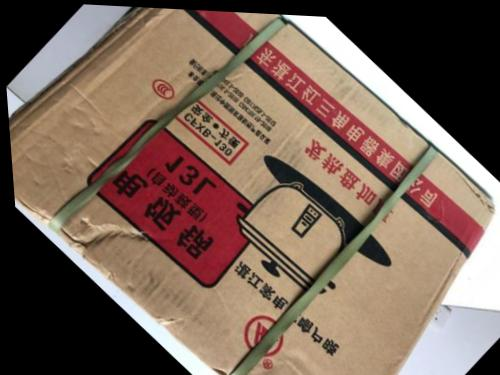cardboard: (2, 0, 499, 373)
